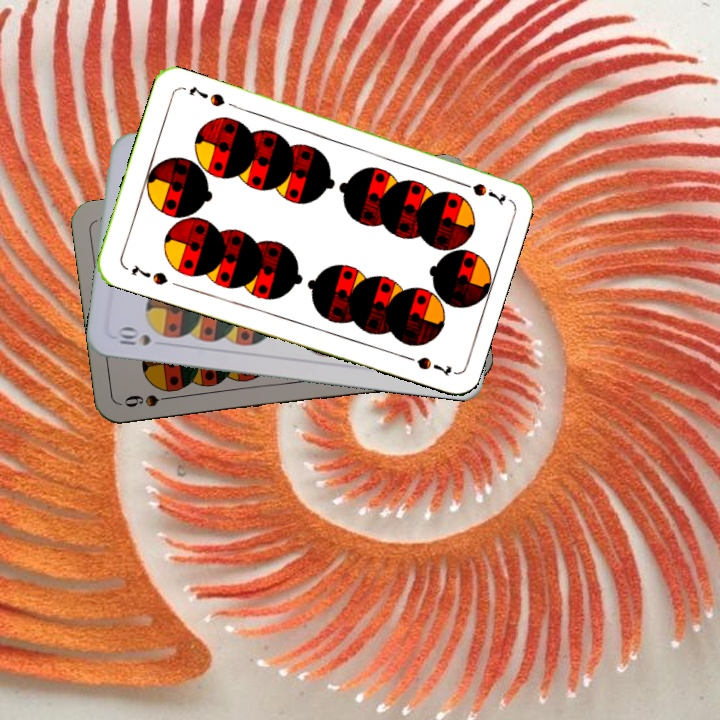S10: (114, 325, 154, 348)
S7: (452, 177, 509, 207), (127, 260, 170, 288)
S9: (120, 390, 179, 410)
